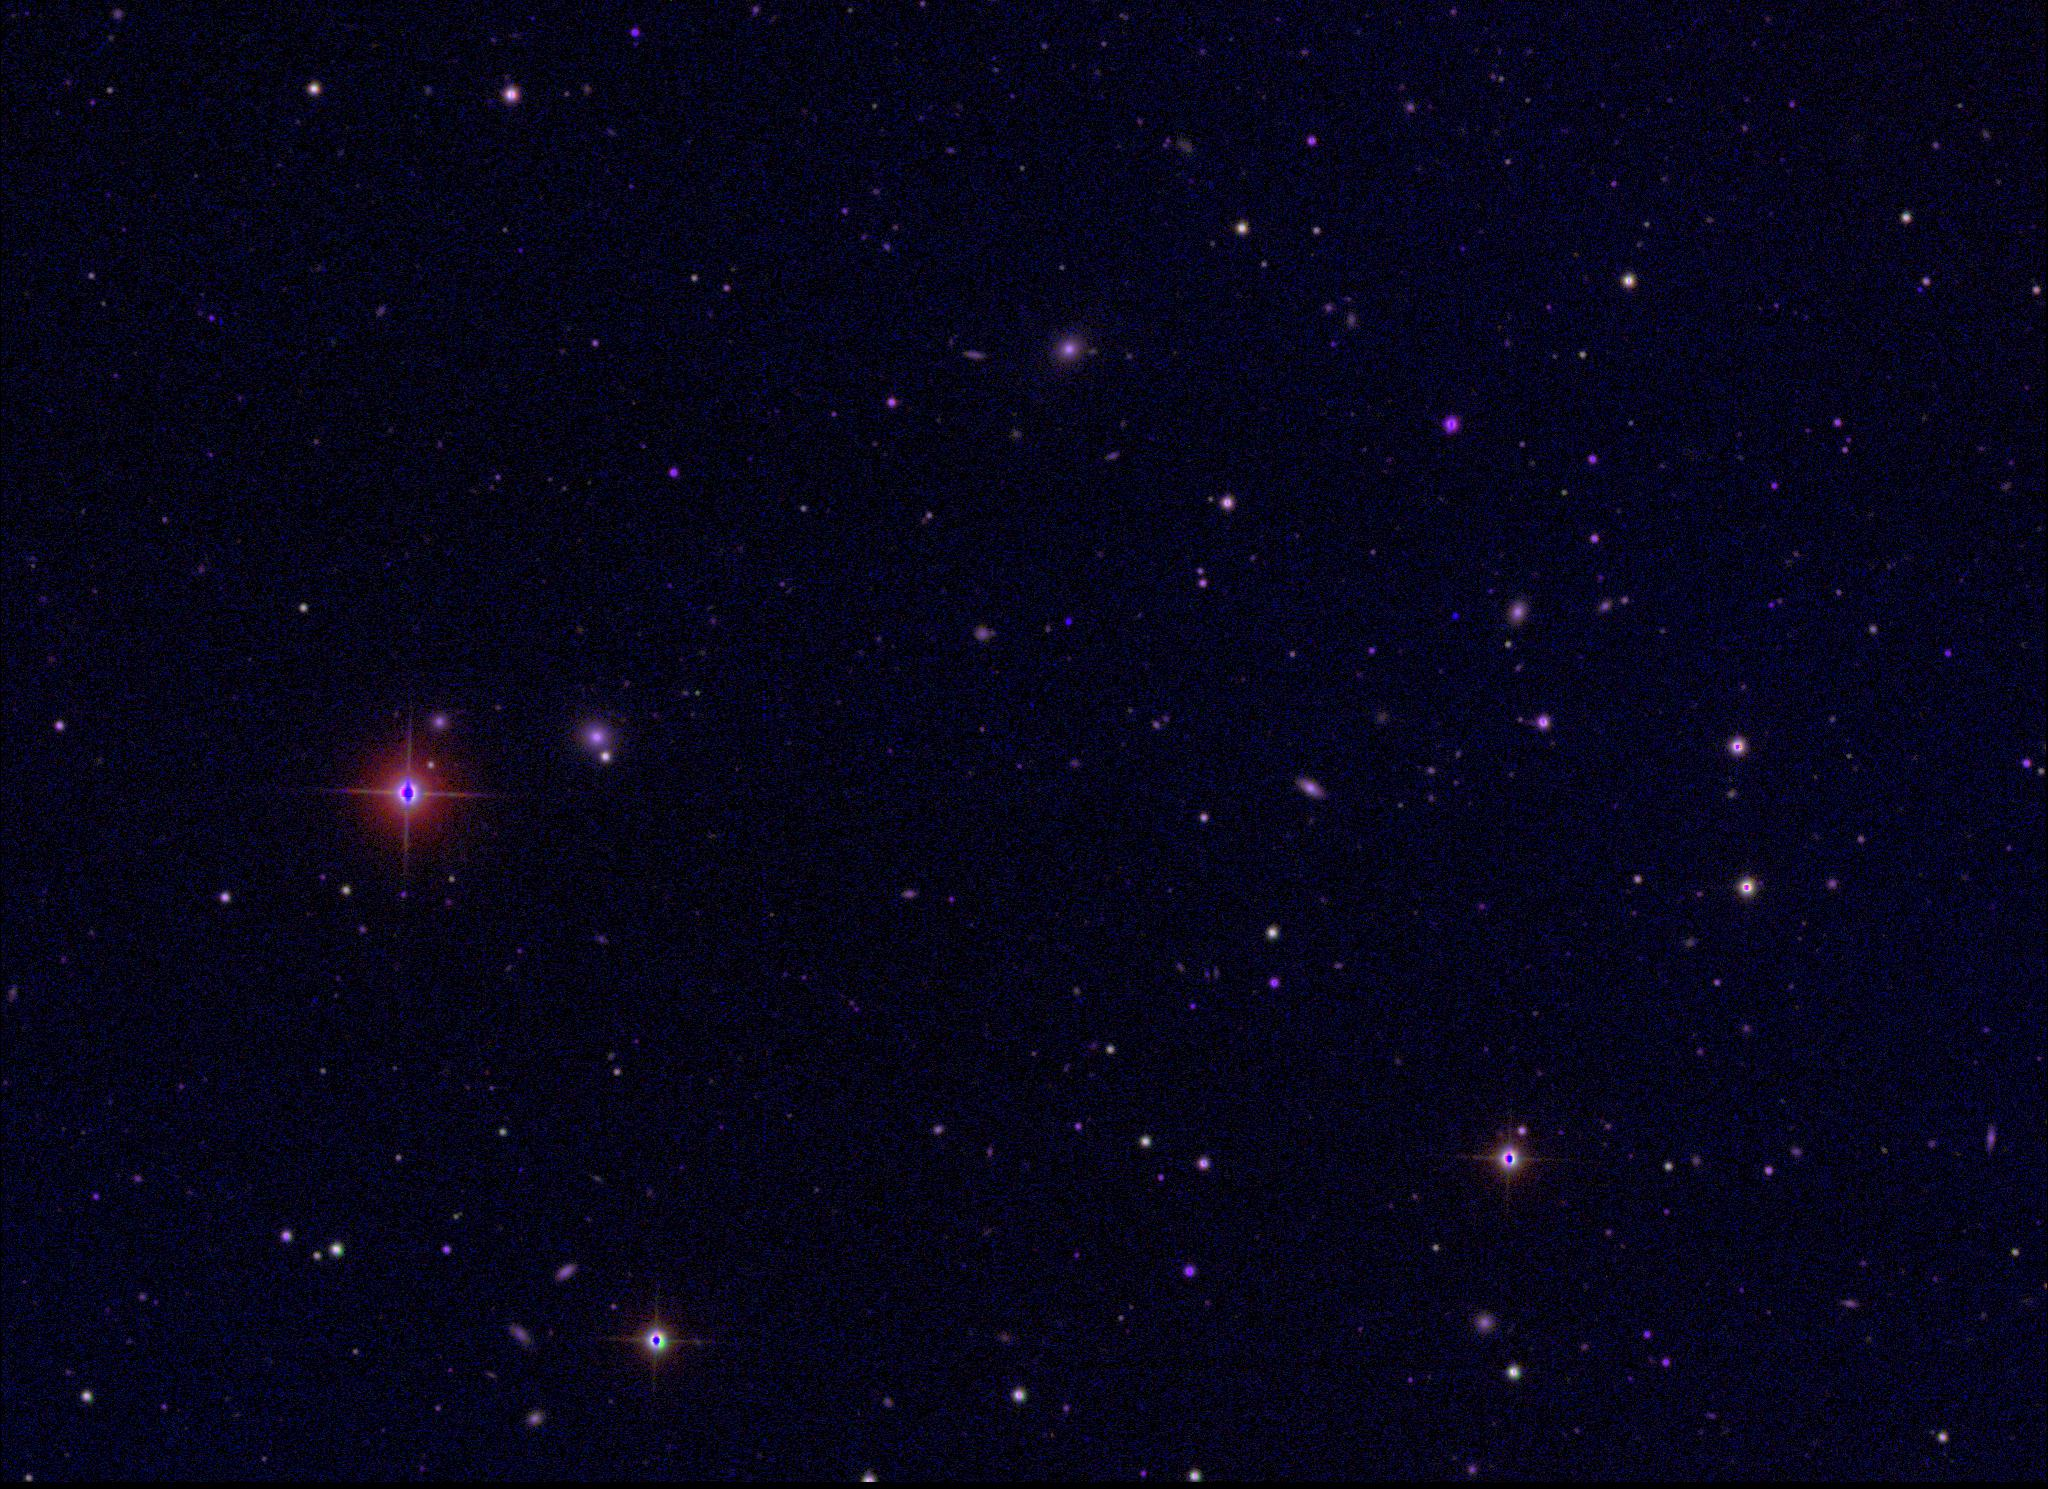L: (1450, 608, 1464, 622)
